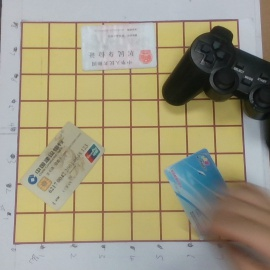card: (19, 121, 106, 209), (161, 148, 233, 240), (78, 22, 158, 70)
remote: (161, 25, 270, 145)
